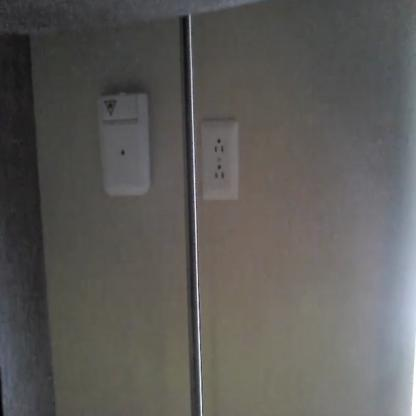OUTLET: (201, 120, 239, 202)
